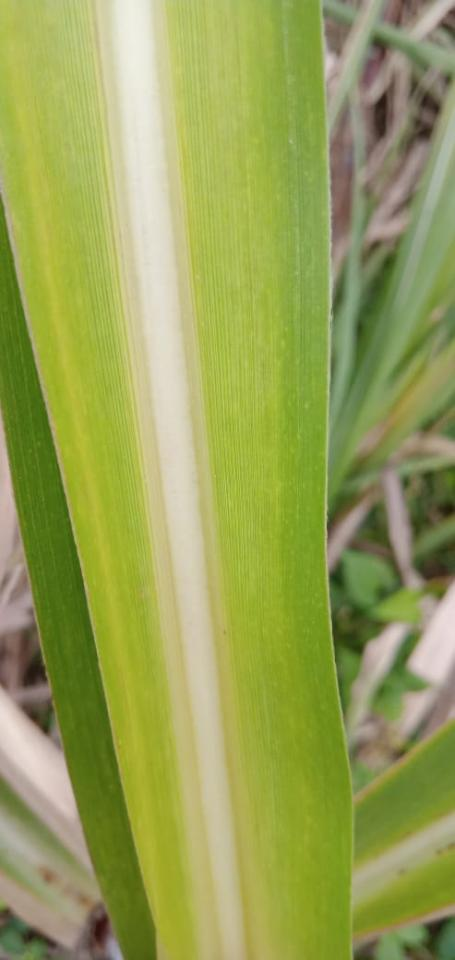Healthy: (0, 0, 354, 959)
